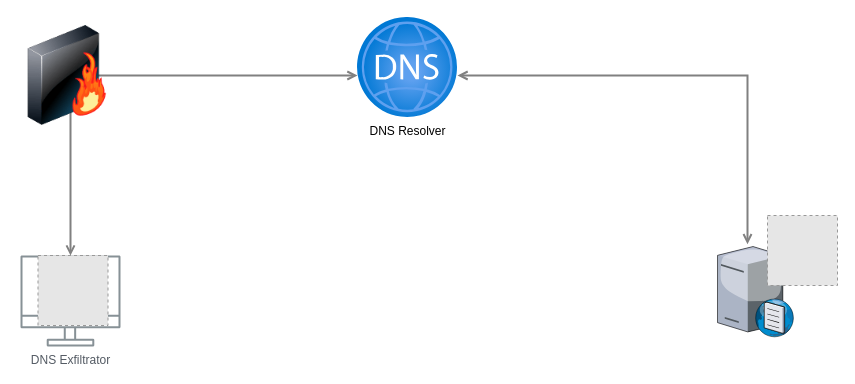
Image size: 855x384. Some labels were removed from this diagram. Grey dashed boxes stand in for pictures. Each missing label, with the centre of its shape:
"Authoritative DNS Server" goes at (755,290).
"Corporate Firewall" goes at (67,75).
